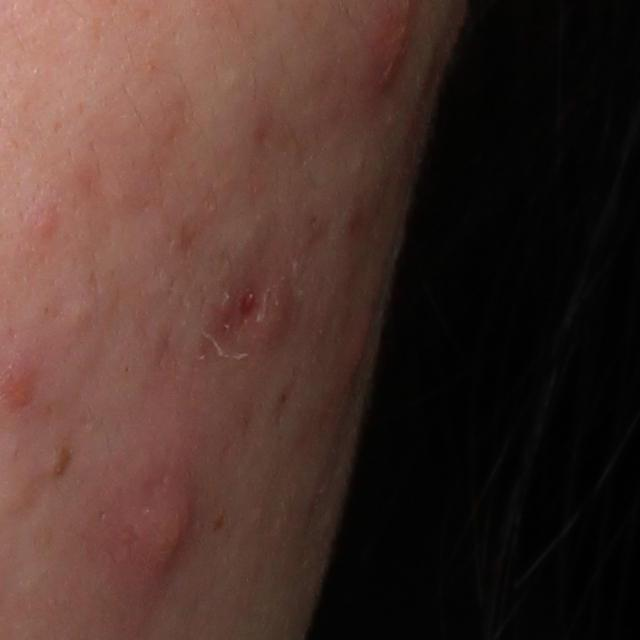nodule: (118, 465, 220, 610)
papule: (334, 287, 379, 409), (250, 275, 304, 354), (32, 202, 62, 245)
